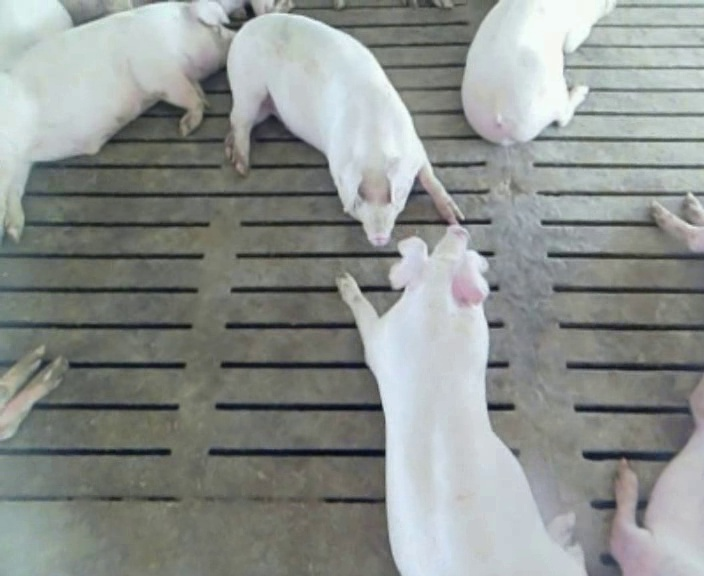pig: (339, 226, 584, 573), (0, 2, 233, 239), (226, 15, 463, 245), (461, 3, 614, 144), (610, 376, 703, 574), (0, 2, 72, 70)
